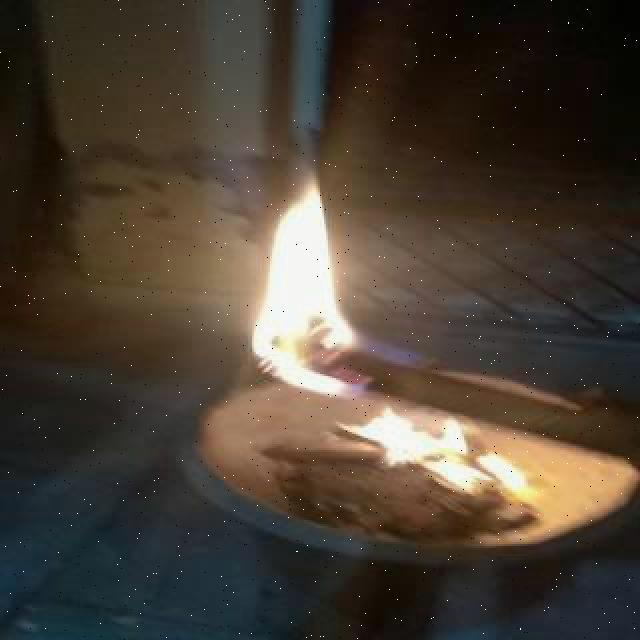Fire: (234, 164, 400, 400), (342, 414, 522, 502)
